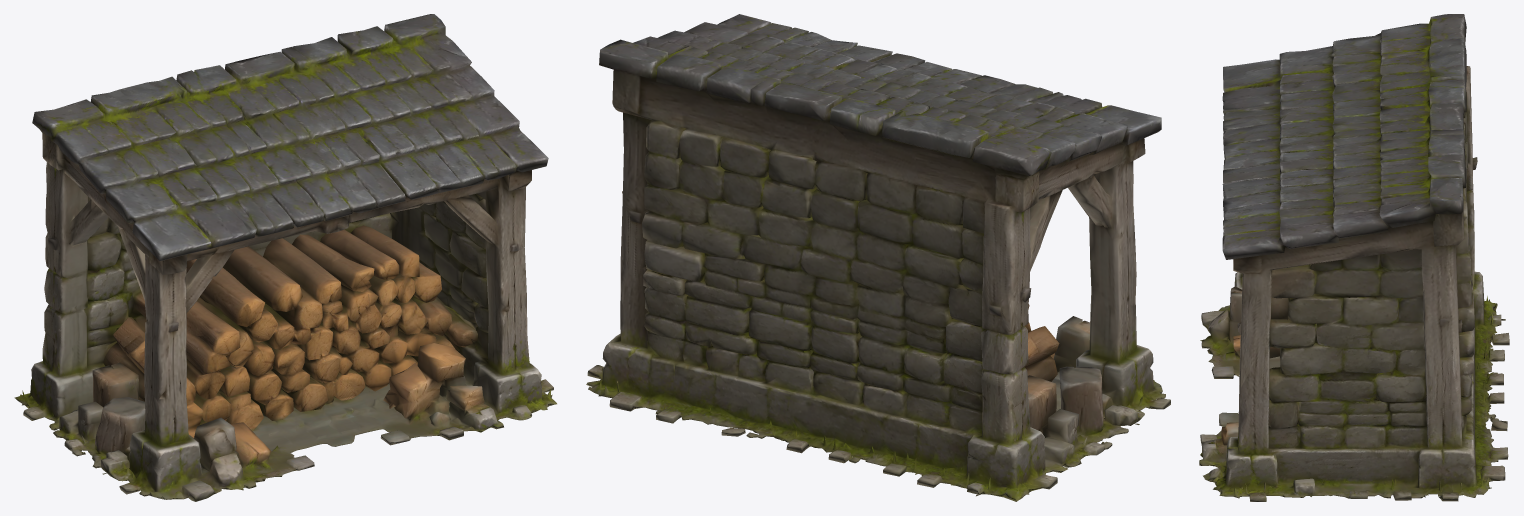
File: log_woodshed_tripo.glb
The picture shows the model from 3 angles, left to right: view 1: azimuth 30°, elevation 25°; view 2: azimuth 150°, elevation 25°; view 3: azimuth 270°, elevation 25°; orthographic projection. The views are drawn at different scales.
Visible parts, largest first — view 1: tripo_node_90325290-7c40-4d92-a192-e7c00ebb9f74; view 2: tripo_node_90325290-7c40-4d92-a192-e7c00ebb9f74; view 3: tripo_node_90325290-7c40-4d92-a192-e7c00ebb9f74.
Part boxes in pixels (<box>): tripo_node_90325290-7c40-4d92-a192-e7c00ebb9f74: <box>14,14,556,501</box>; tripo_node_90325290-7c40-4d92-a192-e7c00ebb9f74: <box>586,14,1170,501</box>; tripo_node_90325290-7c40-4d92-a192-e7c00ebb9f74: <box>1199,14,1509,501</box>.
Size of the model in its own units: 1 by 0.6765 by 0.6419.
1 material, 1 textured.
